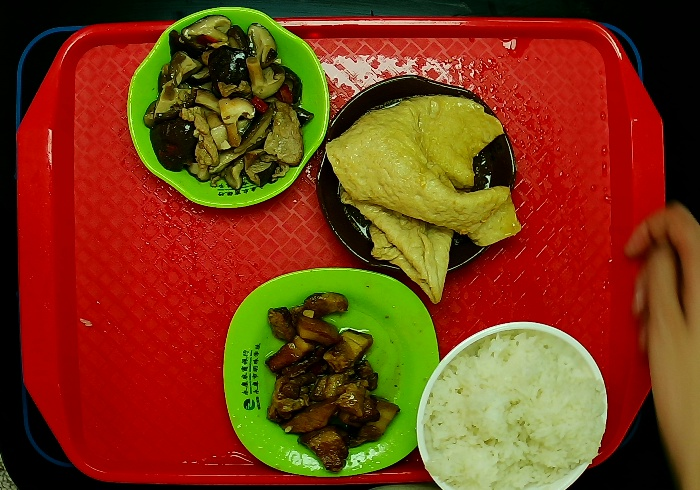YKMZ-Fan_Wan: (415, 319, 612, 490)
YKMZ-Ka_Fei_Ao_Bian_Wan: (313, 71, 520, 275)
YKMZ-Lv_Se_Ao_Bian_Wan: (127, 3, 331, 209)
YKMZ-Lv_Se_Fang_Die: (219, 263, 439, 479)
